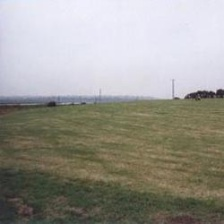neutral: (3, 6, 223, 224)
